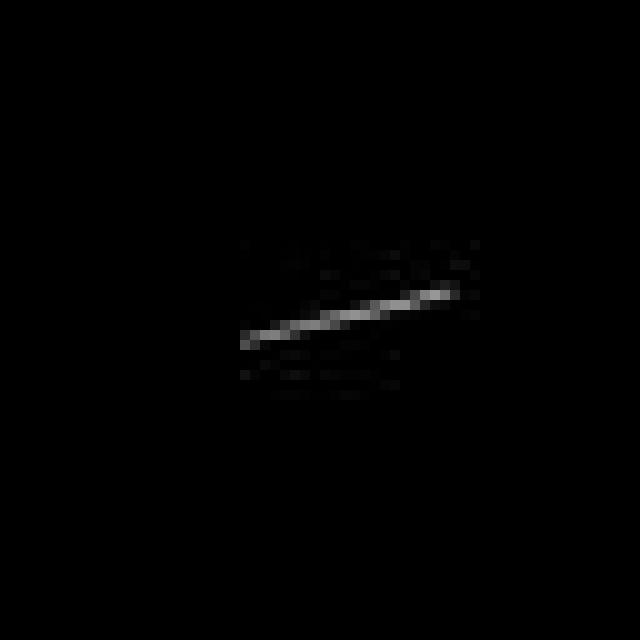1 -one-: (237, 282, 458, 359)
